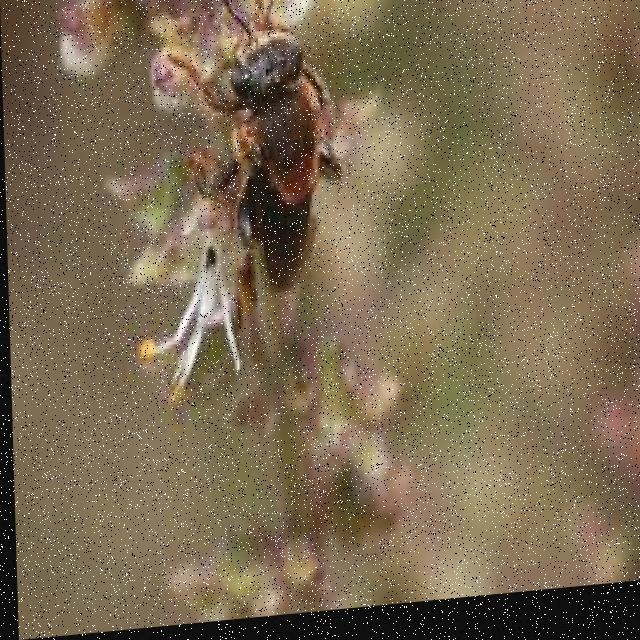Meliponula: (196, 0, 350, 317)
